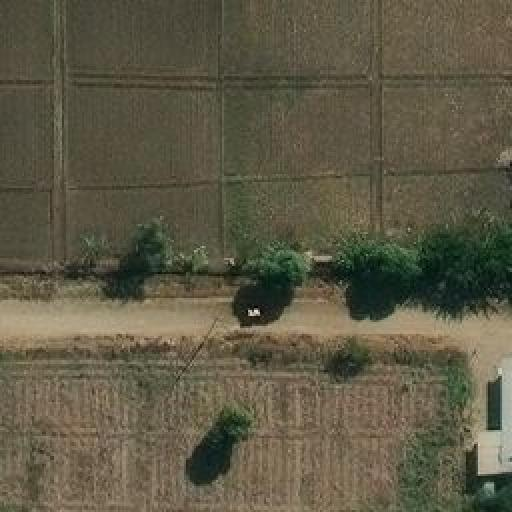manzanas: (469, 361, 510, 485)
